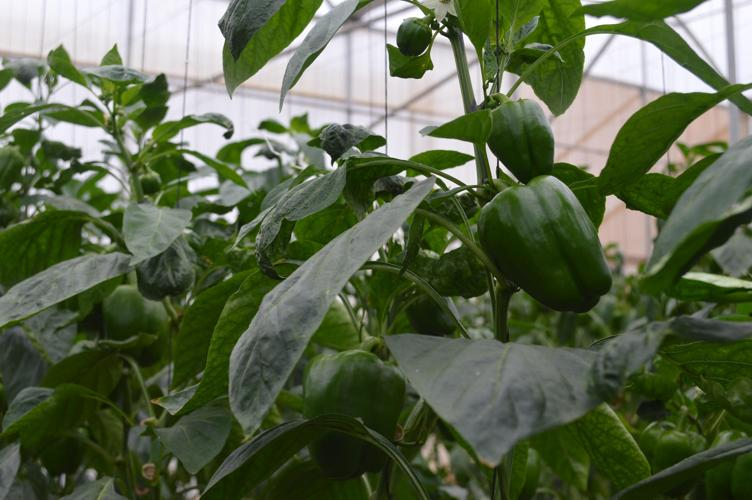BellPepper: (475, 177, 613, 310), (302, 354, 396, 471), (476, 96, 548, 180), (102, 288, 166, 367)
